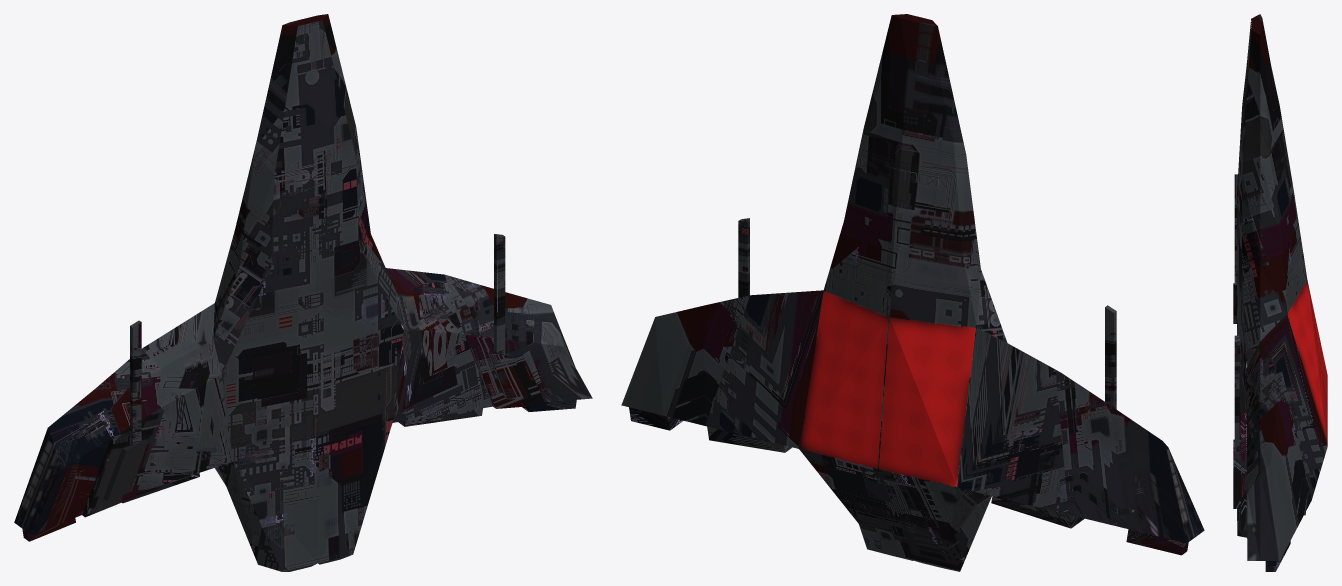
The model's file is EnemyChaser.dae.
3 renders of one model, left to right at view 1: azimuth 30°, elevation 25°; view 2: azimuth 150°, elevation 25°; view 3: azimuth 270°, elevation 25°, orthographic. The views are drawn at different scales.
Parts seen in each view (by area): view 1: EnemyShipChaser; view 2: EnemyShipChaser; view 3: EnemyShipChaser.
Part boxes in pixels (left/top/right/bottom): EnemyShipChaser: left=14, top=14, right=592, bottom=571; EnemyShipChaser: left=621, top=14, right=1204, bottom=571; EnemyShipChaser: left=1233, top=14, right=1327, bottom=571.
Bounding box in the file's own units: 13.01 × 2.05 × 11.94.
3 materials, 3 textured.
